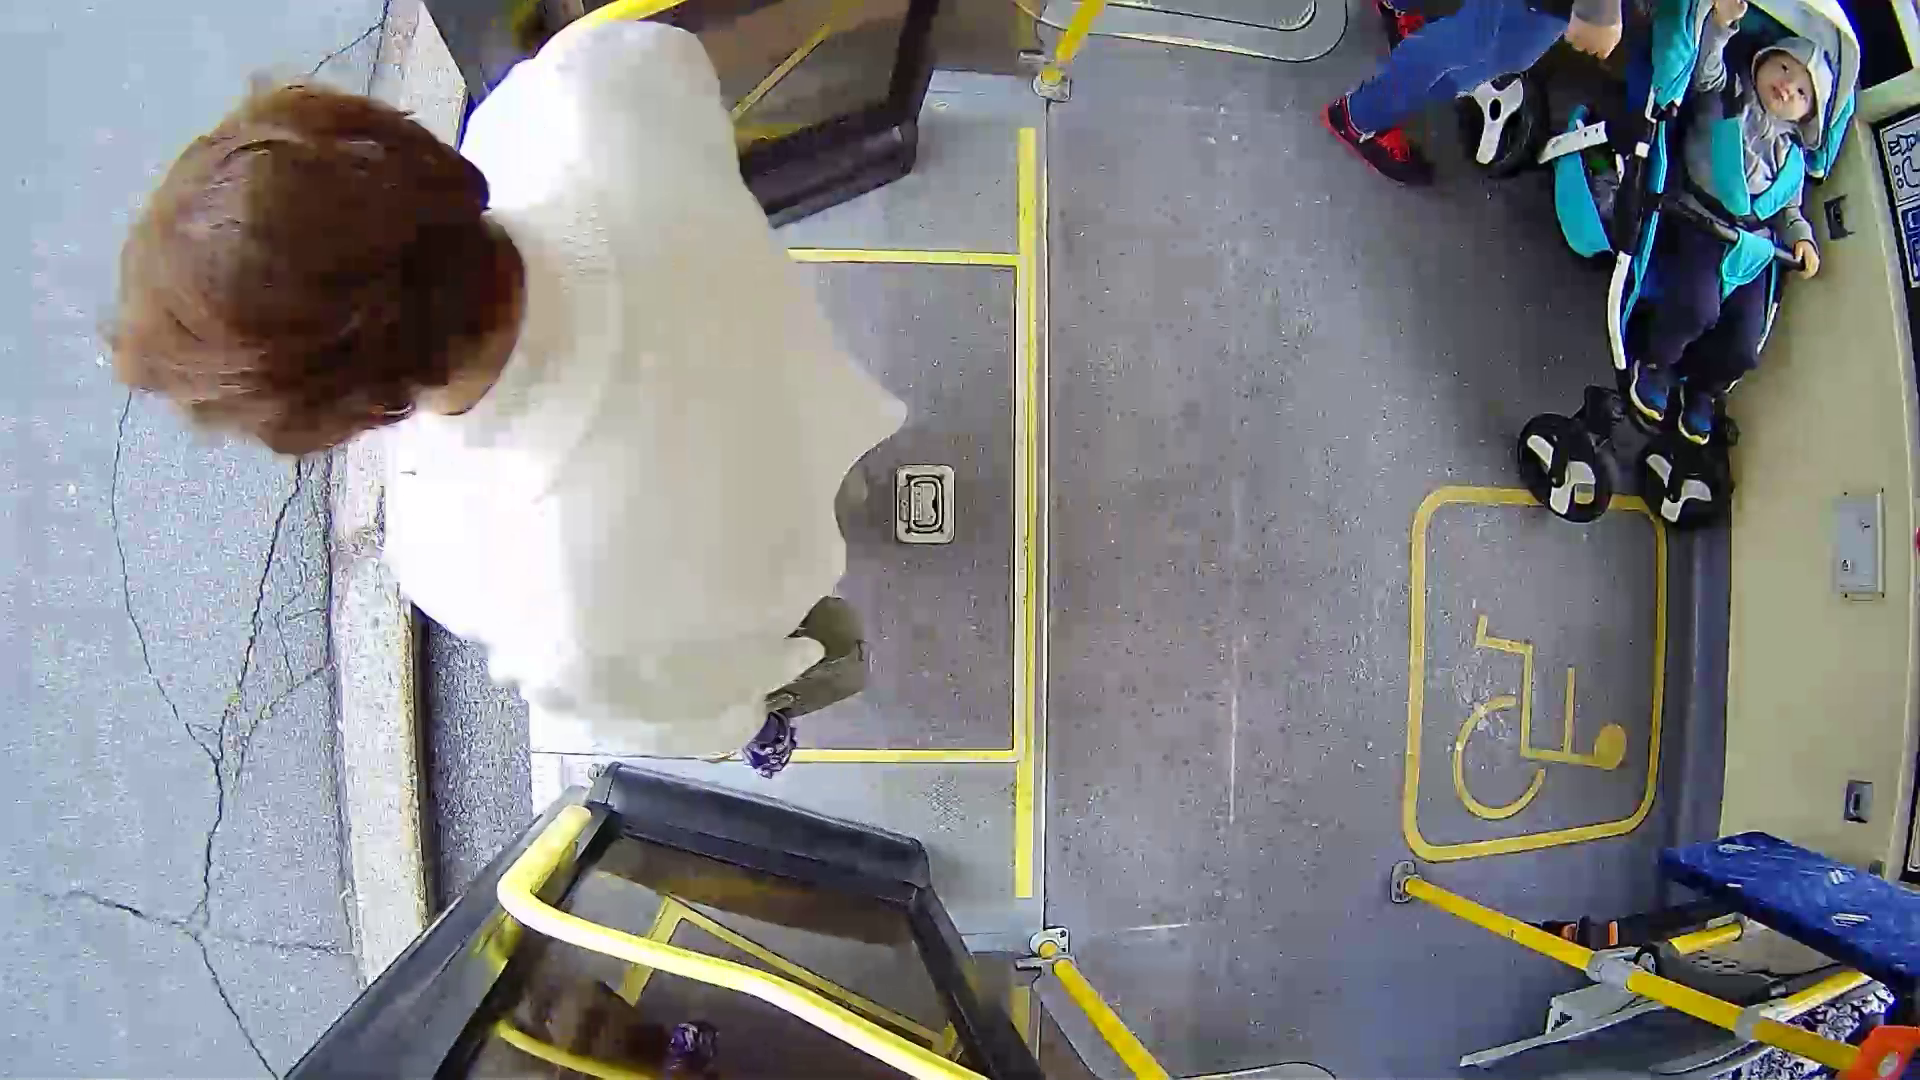person: (110, 120, 984, 738)
